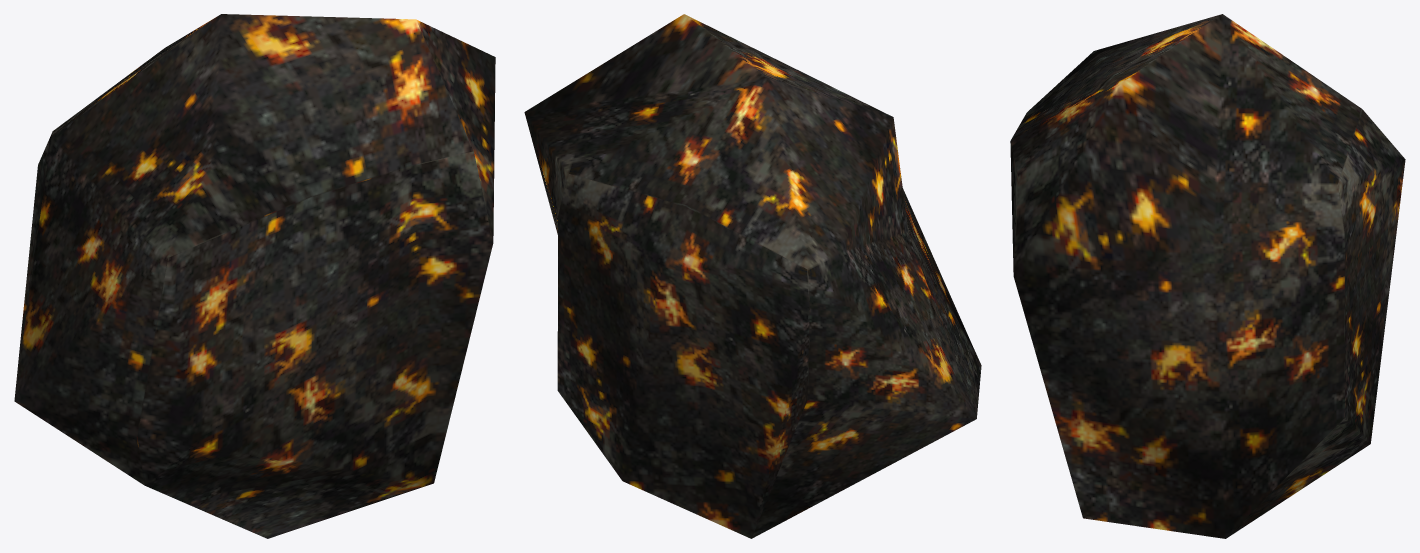
File: asteroid_moltenrock_small_s01_l3.fbx
3 renders of one model, left to right at view 1: azimuth 30°, elevation 25°; view 2: azimuth 150°, elevation 25°; view 3: azimuth 270°, elevation 25°, orthographic. The views are drawn at different scales.
Parts seen in each view (by area): view 1: mesh_node; view 2: mesh_node; view 3: mesh_node.
Boxes of the visible parts, x1,y1,x2,y2 form: mesh_node: [14, 14, 495, 538]; mesh_node: [524, 14, 981, 538]; mesh_node: [1010, 14, 1405, 538].
Size of the model in its own units: 28.42 by 28.37 by 20.56.
1 material, 1 textured.
